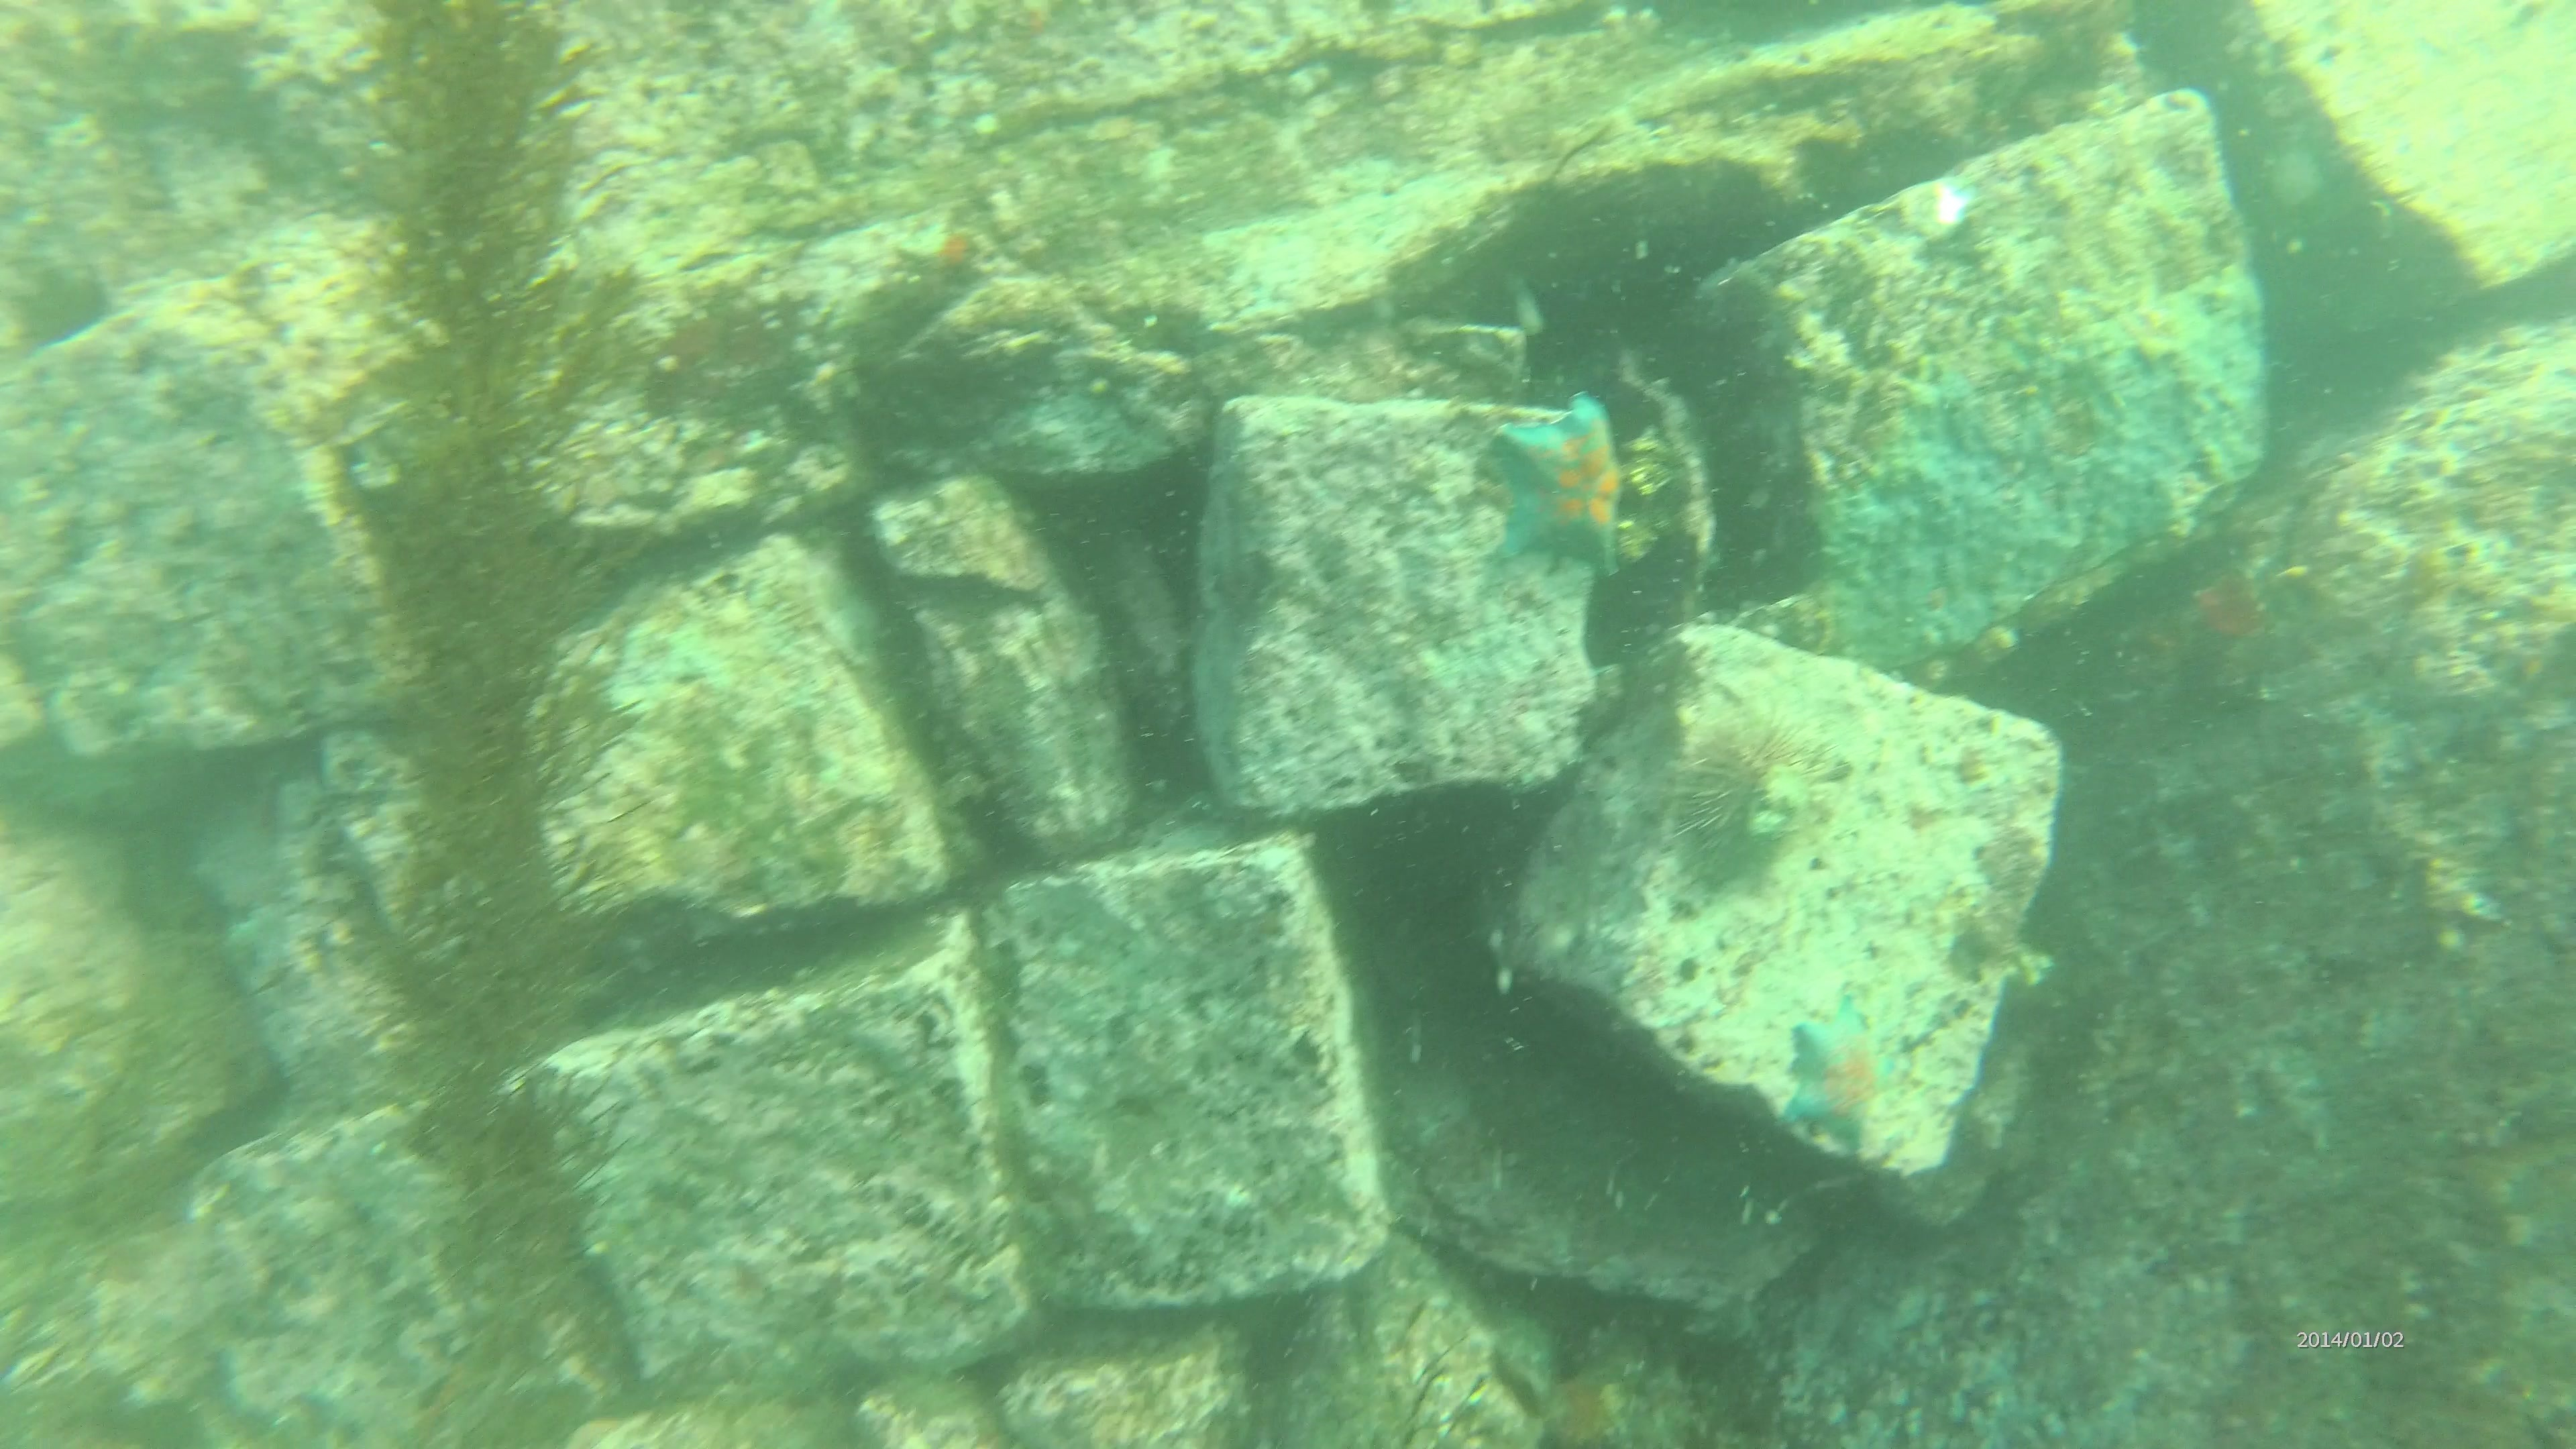echinus: (1665, 711, 1824, 869)
starfish: (1481, 395, 1640, 582), (1780, 1000, 1911, 1150), (899, 221, 985, 287)
